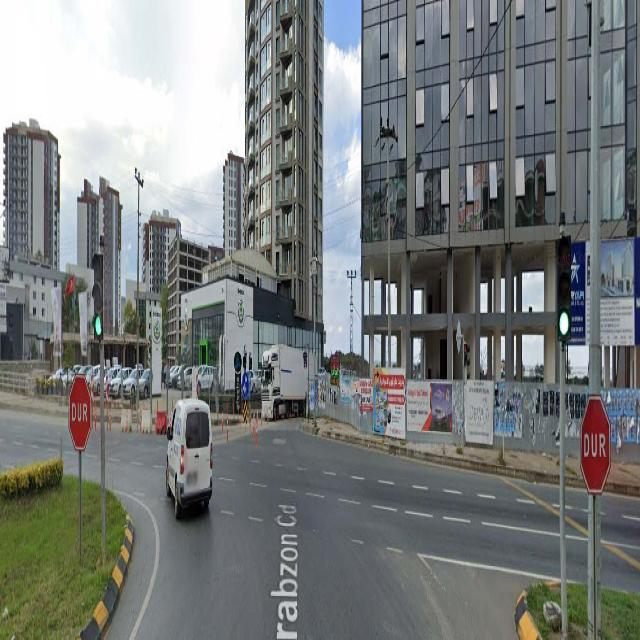dur: (581, 400, 608, 497), (69, 376, 90, 451)
ilerisol: (242, 371, 248, 399)
yesil: (558, 239, 570, 343), (93, 253, 103, 340)
